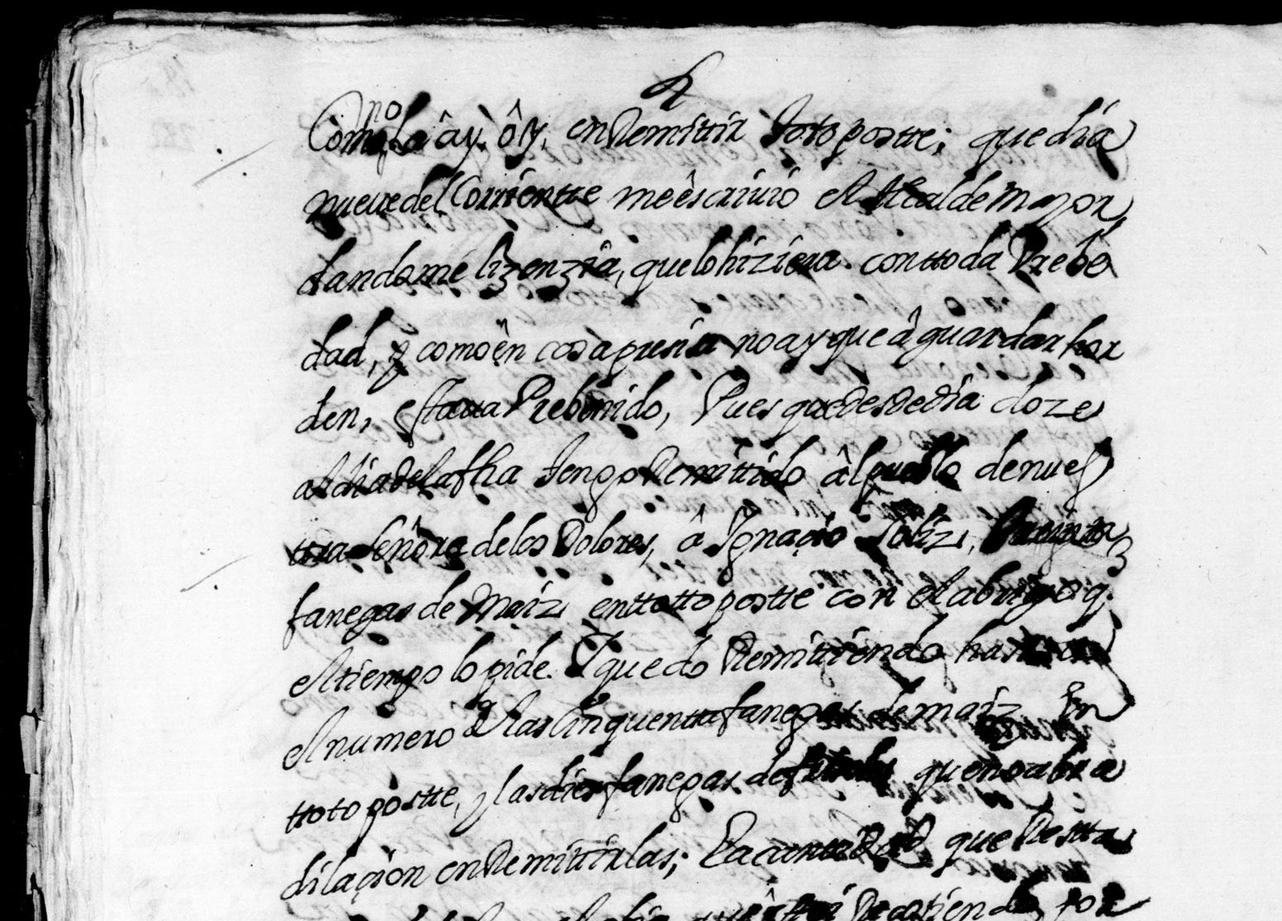lacandon: (699, 810, 936, 868)
